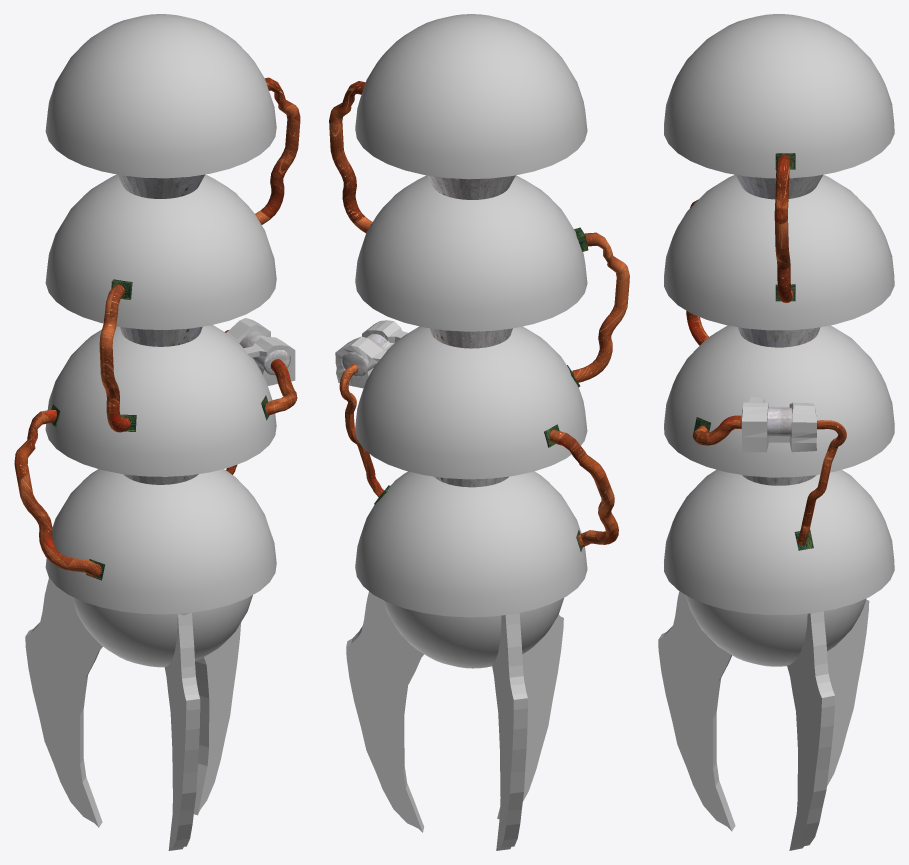
File: Claw_Arm.FBX
3 views of the same model, side by side, from view 1: azimuth 30°, elevation 25°; view 2: azimuth 150°, elevation 25°; view 3: azimuth 270°, elevation 25° (orthographic).
Parts seen in each view (by area): view 1: Arm Piece1, Arm Piece2, Arm Piece4, Arm Piece3, LargeClaw_1, Sphere Joint, LargeClaw_003, LargeClaw_2, Wiring_Bottom, Wiring_Top_Right, Wiring_Top_Left, Tank_Support (+4 smaller); view 2: Arm Piece1, Arm Piece2, Arm Piece4, Arm Piece3, LargeClaw_2, Sphere Joint, LargeClaw_1, LargeClaw_003, Wiring_Top_Right, Wiring_Bottom, Wiring_Top_Left, Tank_Support (+4 smaller); view 3: Arm Piece1, Arm Piece4, Arm Piece2, Arm Piece3, LargeClaw_003, LargeClaw_2, Sphere Joint, LargeClaw_1, Tank_Support, Wiring_Top_Left, Tank_Wiring1, Joint1 (+4 smaller).
Part boxes in pixels (box(x1,y1,x2,y2)): Arm Piece1: box(45, 14, 276, 178); Arm Piece2: box(45, 174, 276, 329); Arm Piece4: box(45, 469, 276, 614); Arm Piece3: box(45, 325, 276, 476); LargeClaw_1: box(25, 578, 102, 827); Sphere Joint: box(71, 595, 252, 667); LargeClaw_003: box(164, 612, 200, 850); LargeClaw_2: box(193, 623, 240, 815); Wiring_Bottom: box(14, 410, 101, 577); Wiring_Top_Right: box(99, 284, 130, 432); Wiring_Top_Left: box(255, 77, 300, 224); Tank_Support: box(226, 318, 295, 385); Arm Piece1: box(355, 14, 587, 179); Arm Piece2: box(355, 175, 587, 331); Arm Piece4: box(355, 471, 587, 617); Arm Piece3: box(355, 326, 587, 479); LargeClaw_2: box(346, 591, 423, 832); Sphere Joint: box(383, 598, 563, 668); LargeClaw_1: box(492, 613, 527, 850); LargeClaw_003: box(497, 615, 563, 819); Wiring_Top_Right: box(572, 232, 629, 382); Wiring_Bottom: box(549, 430, 618, 547); Wiring_Top_Left: box(329, 81, 372, 233); Tank_Support: box(335, 320, 407, 388); Arm Piece1: box(664, 14, 894, 178); Arm Piece4: box(664, 469, 894, 615); Arm Piece2: box(664, 175, 894, 330); Arm Piece3: box(664, 325, 894, 477); LargeClaw_003: box(658, 591, 735, 831); LargeClaw_2: box(787, 611, 834, 850); Sphere Joint: box(685, 594, 866, 666); LargeClaw_1: box(827, 599, 869, 785); Tank_Support: box(742, 396, 816, 452); Wiring_Top_Left: box(774, 154, 793, 303); Tank_Wiring1: box(797, 420, 846, 545); Joint1: box(735, 174, 822, 199).
Bounding box in the file's own units: 41.4 × 30.22 × 114.
